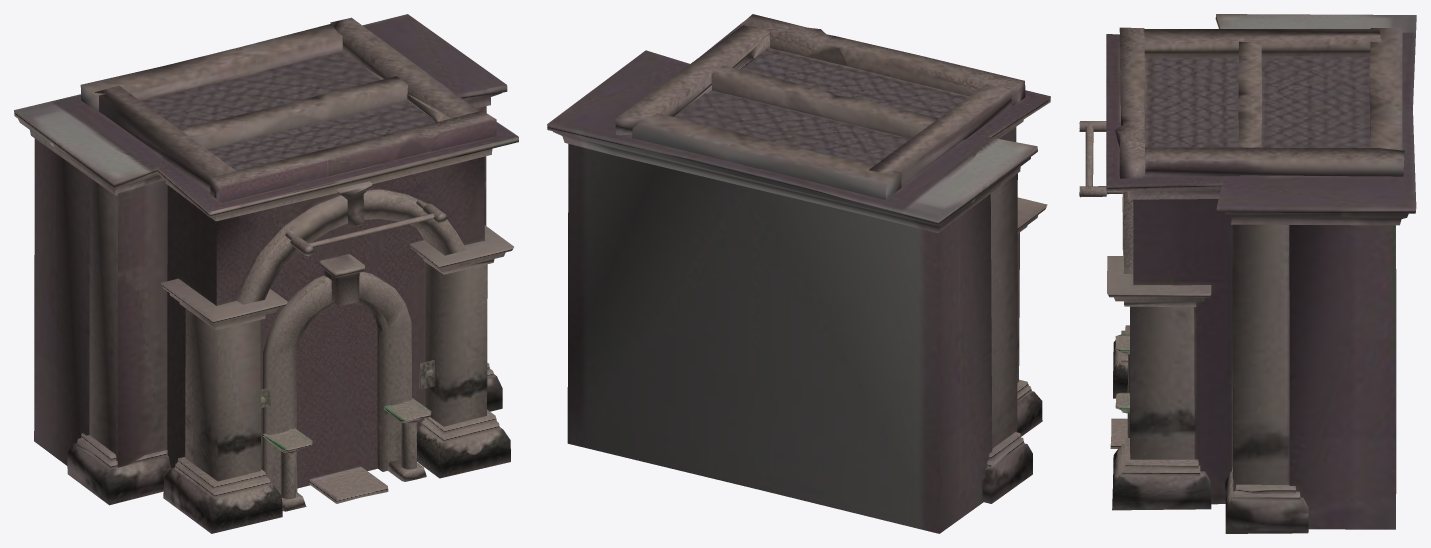
File: bathhouse-arch-v3.glb
3 renders of one model, left to right at view 1: azimuth 30°, elevation 25°; view 2: azimuth 150°, elevation 25°; view 3: azimuth 270°, elevation 25°, orthographic.
Visible parts, largest first — view 1: bathhouse-arch-v3; view 2: bathhouse-arch-v3; view 3: bathhouse-arch-v3.
Part boxes in pixels (<box>): bathhouse-arch-v3: <box>14,14,518,533</box>; bathhouse-arch-v3: <box>547,14,1050,533</box>; bathhouse-arch-v3: <box>1079,14,1416,533</box>.
Bounding box in the file's own units: 1 × 0.8359 × 0.7399.
1 material, 1 textured.
